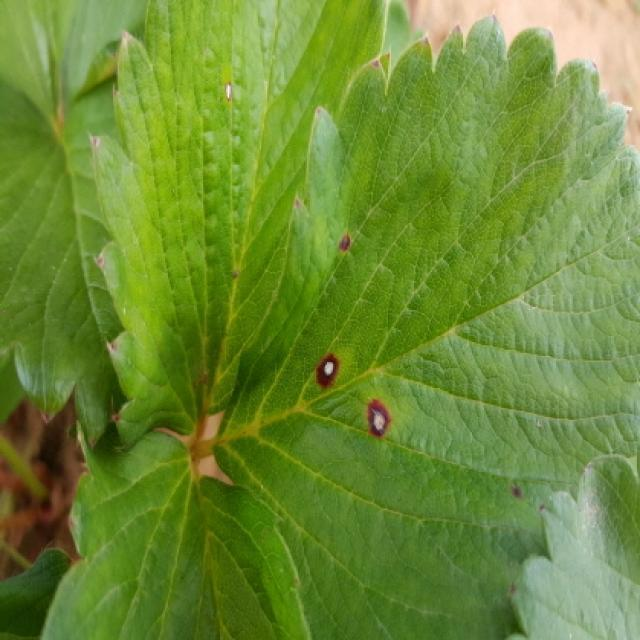Leaf Spot: (209, 14, 638, 638), (87, 0, 391, 454)
